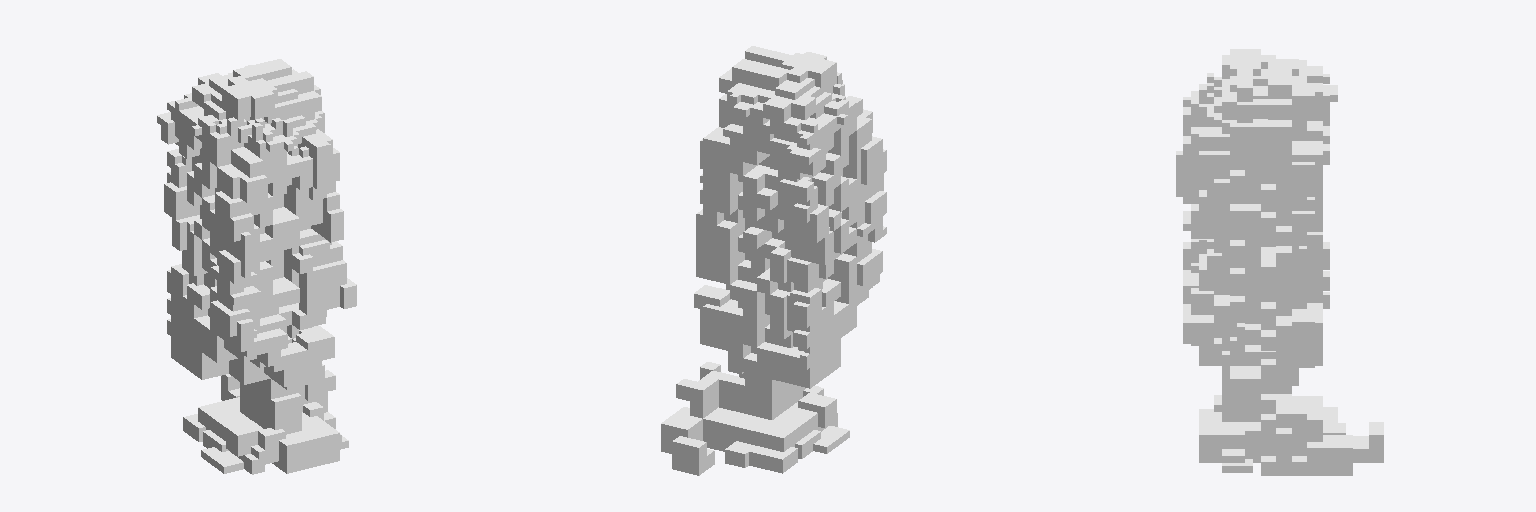
File: MorelSvamp.obj
The picture shows the model from 3 angles: view 1: azimuth 30°, elevation 25°; view 2: azimuth 150°, elevation 25°; view 3: azimuth 270°, elevation 25°; orthographic projection.
Visible parts, largest first — view 1: object 1; view 2: object 1; view 3: object 1.
Part boxes in pixels (left/top/right/bottom): object 1: left=157, top=59, right=356, bottom=474; object 1: left=661, top=46, right=886, bottom=475; object 1: left=1176, top=49, right=1383, bottom=475.
Size of the model in its own units: 2.1 by 5.3 by 2.7.